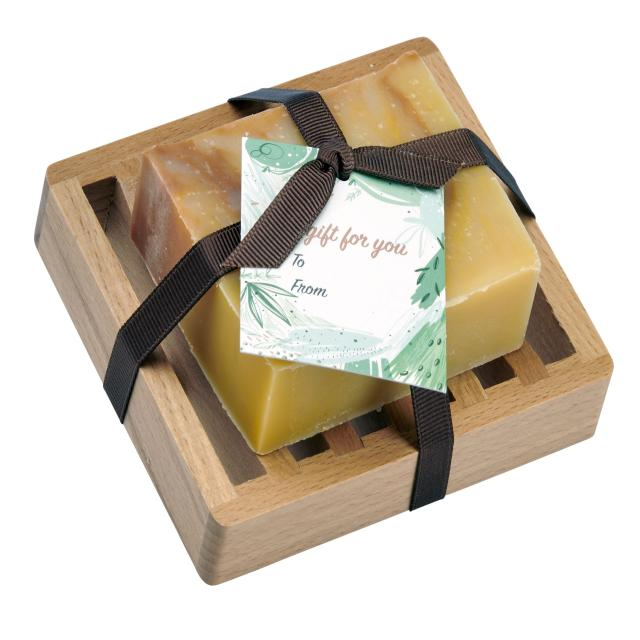soap: (122, 49, 572, 451)
